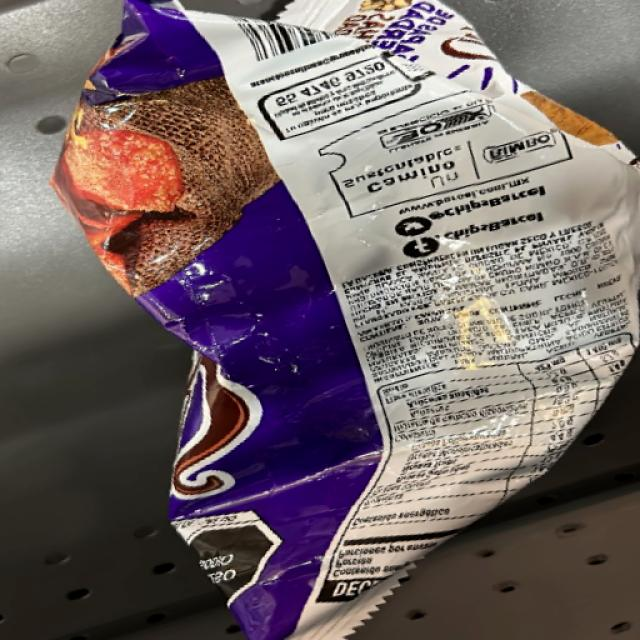takisFuego: (92, 0, 446, 640)
